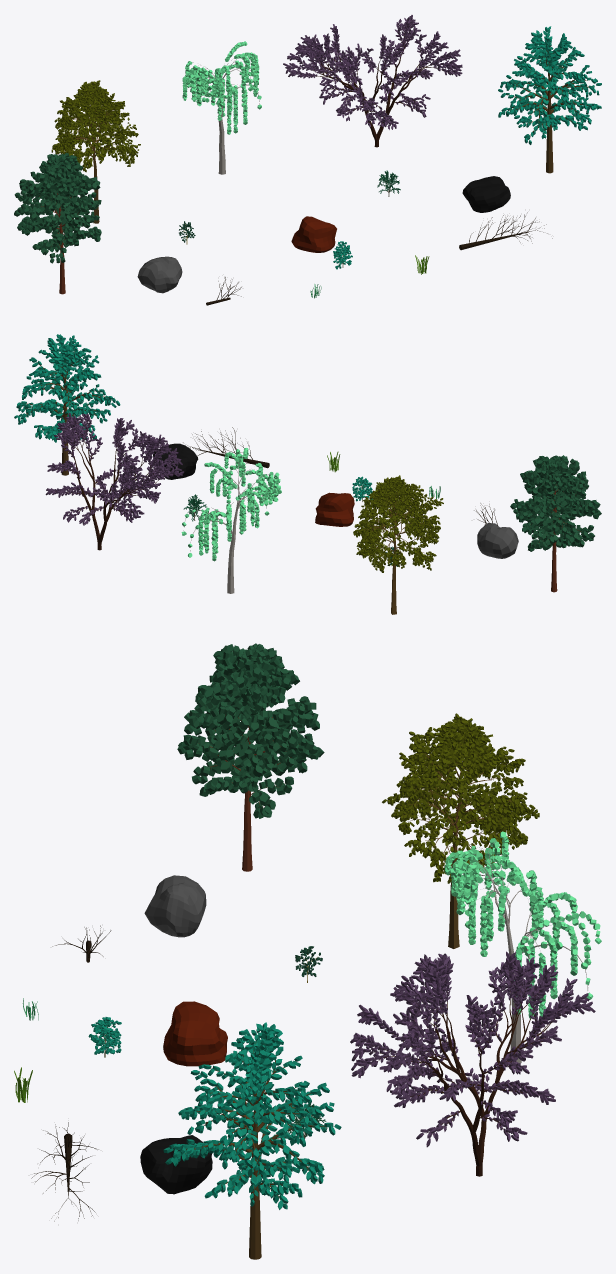
The picture shows the model from 3 angles, top to bottom: view 1: azimuth 30°, elevation 25°; view 2: azimuth 150°, elevation 25°; view 3: azimuth 270°, elevation 25°; orthographic projection. The views are drawn at different scales.
Visible parts, largest first — view 1: purpleTree, bigLeavesTree, simpleTree, tree, fallenBranchesTree, blackRock, redRock, rock.001, deadTree; view 2: purpleTree, bigLeavesTree, tree, simpleTree, fallenBranchesTree, redRock, rock.001, blackRock, deadTree; view 3: purpleTree, bigLeavesTree, simpleTree, tree, fallenBranchesTree, redRock, rock.001, blackRock, deadTree, shrubs.
Boxes of the visible parts, x1=… form: purpleTree: x1=283, y1=15, x2=462, y2=147; bigLeavesTree: x1=14, y1=153, x2=101, y2=294; simpleTree: x1=498, y1=26, x2=601, y2=173; tree: x1=51, y1=80, x2=140, y2=223; fallenBranchesTree: x1=182, y1=41, x2=261, y2=174; blackRock: x1=462, y1=176, x2=510, y2=212; redRock: x1=291, y1=216, x2=336, y2=252; rock.001: x1=137, y1=256, x2=182, y2=293; deadTree: x1=459, y1=212, x2=552, y2=250; purpleTree: x1=45, y1=412, x2=184, y2=550; bigLeavesTree: x1=510, y1=455, x2=601, y2=592; tree: x1=353, y1=475, x2=443, y2=614; simpleTree: x1=14, y1=334, x2=120, y2=475; fallenBranchesTree: x1=181, y1=448, x2=281, y2=593; redRock: x1=315, y1=492, x2=354, y2=526; rock.001: x1=477, y1=523, x2=518, y2=558; blackRock: x1=153, y1=443, x2=198, y2=479; deadTree: x1=183, y1=427, x2=269, y2=468; purpleTree: x1=350, y1=951, x2=595, y2=1176; bigLeavesTree: x1=177, y1=643, x2=324, y2=871; simpleTree: x1=163, y1=1022, x2=341, y2=1259; tree: x1=382, y1=713, x2=539, y2=948; fallenBranchesTree: x1=444, y1=831, x2=601, y2=1063; redRock: x1=163, y1=1001, x2=227, y2=1066; rock.001: x1=144, y1=875, x2=206, y2=937; blackRock: x1=140, y1=1135, x2=212, y2=1194; deadTree: x1=31, y1=1122, x2=98, y2=1221; shrubs: x1=88, y1=1017, x2=121, y2=1057.
Size of what is drawn, in the model's own units: 3234 by 841 by 1759.
